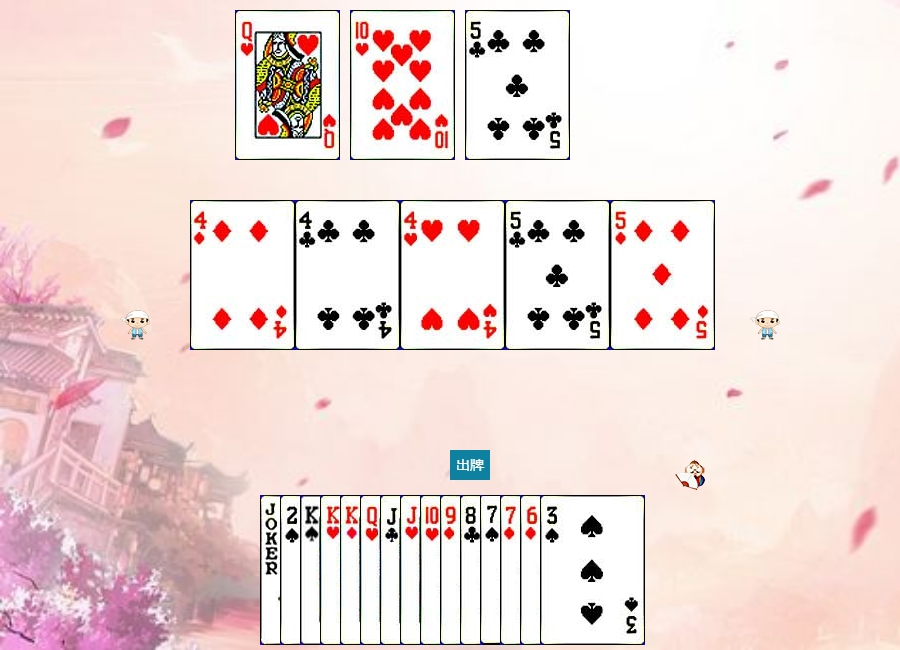10~3: (350, 10, 455, 160), (420, 495, 525, 645)
11~2: (380, 495, 485, 645)
11~3: (400, 495, 505, 645)
12~3: (235, 10, 340, 160), (360, 495, 465, 645)
13~1: (340, 495, 445, 645)
13~3: (320, 495, 425, 645)
13~4: (300, 495, 405, 645)
15~4: (280, 495, 385, 645)
17~3: (260, 495, 365, 645)
3~4: (540, 495, 645, 645)
4~1: (190, 200, 295, 350)
4~2: (295, 200, 400, 350)
4~3: (400, 200, 505, 350)
5~1: (610, 200, 715, 350)
5~2: (465, 10, 570, 160), (505, 200, 610, 350)
6~1: (520, 495, 625, 645)
7~1: (500, 495, 605, 645)
7~4: (480, 495, 585, 645)
8~2: (460, 495, 565, 645)
9~1: (440, 495, 545, 645)
